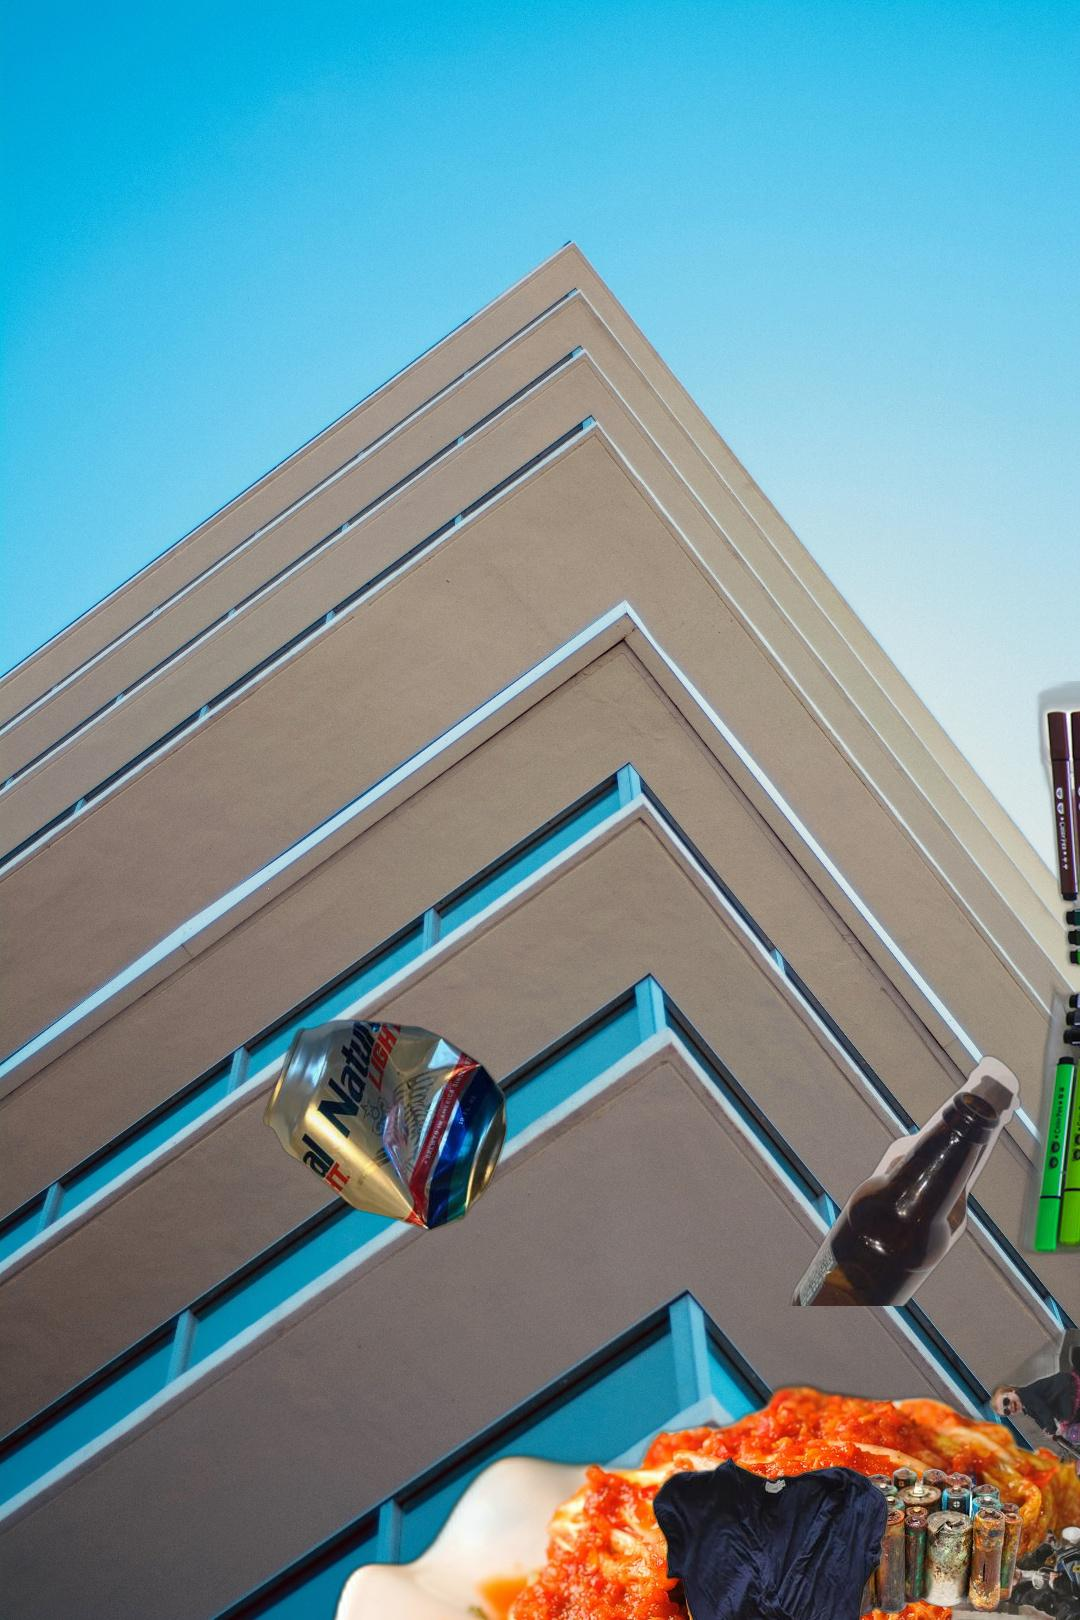battery: (779, 1456, 1026, 1619)
biological: (304, 1323, 1080, 1620)
clothes: (648, 1452, 925, 1620)
glass: (786, 1053, 1025, 1305)
metal-cans: (259, 1016, 512, 1234), (1029, 1540, 1080, 1620)
paper: (943, 1321, 1080, 1620)
penholder: (886, 681, 1080, 1281)
